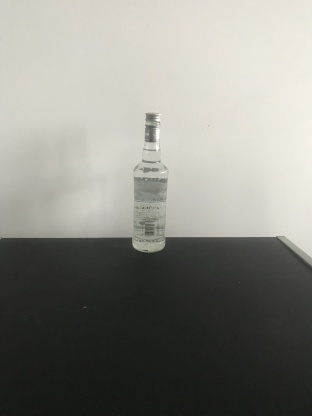nakretka: (143, 111, 161, 143)
